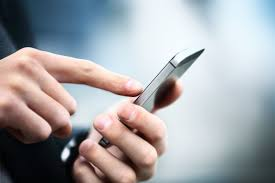Mobile-phone: (98, 46, 204, 145)
